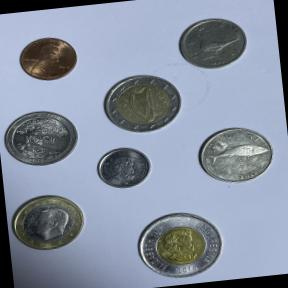1 Euro-B: (7, 189, 92, 256)
2 Euro-B: (95, 65, 187, 139)
Canada-10cent-B: (92, 143, 154, 195)
Canada-2Dollar-B: (128, 204, 230, 286)
Croatia-2Kune-B: (190, 120, 280, 192)
US-1cent-B: (12, 30, 82, 86)
US-25cent-B: (0, 103, 83, 171)
